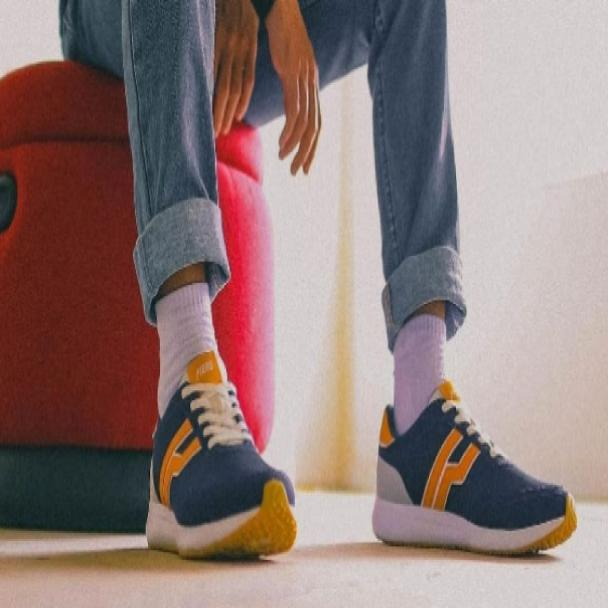Sepatu: (141, 340, 311, 579), (374, 377, 582, 568)
